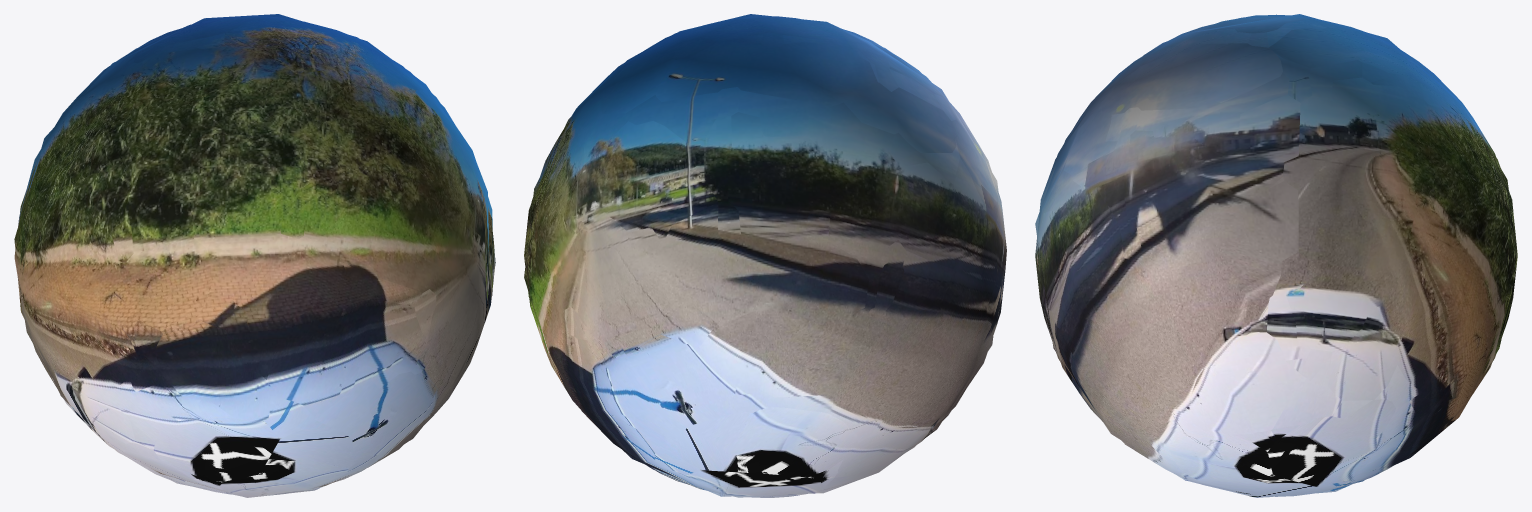
File: __lods__Overtaking-5.glb
The picture shows the model from 3 angles, left to right: view 1: azimuth 30°, elevation 25°; view 2: azimuth 150°, elevation 25°; view 3: azimuth 270°, elevation 25°; orthographic projection.
Parts seen in each view (by area): view 1: __LOD_2__Sphere, __LOD_1__Sphere, __LOD_0__Sphere; view 2: __LOD_2__Sphere, __LOD_1__Sphere, __LOD_0__Sphere; view 3: __LOD_2__Sphere, __LOD_1__Sphere, __LOD_0__Sphere.
Boxes of the visible parts, x1,y1,x2,y2 form: __LOD_2__Sphere: (14, 14, 489, 497); __LOD_1__Sphere: (14, 15, 493, 496); __LOD_0__Sphere: (16, 16, 495, 494); __LOD_2__Sphere: (524, 14, 998, 496); __LOD_1__Sphere: (524, 15, 1006, 497); __LOD_0__Sphere: (525, 16, 1006, 497); __LOD_2__Sphere: (1035, 14, 1517, 497); __LOD_1__Sphere: (1035, 15, 1517, 497); __LOD_0__Sphere: (1035, 14, 1517, 496).
Size of the model in its own units: 2 by 2 by 2.
Materials: 1 (1 with a texture image).
